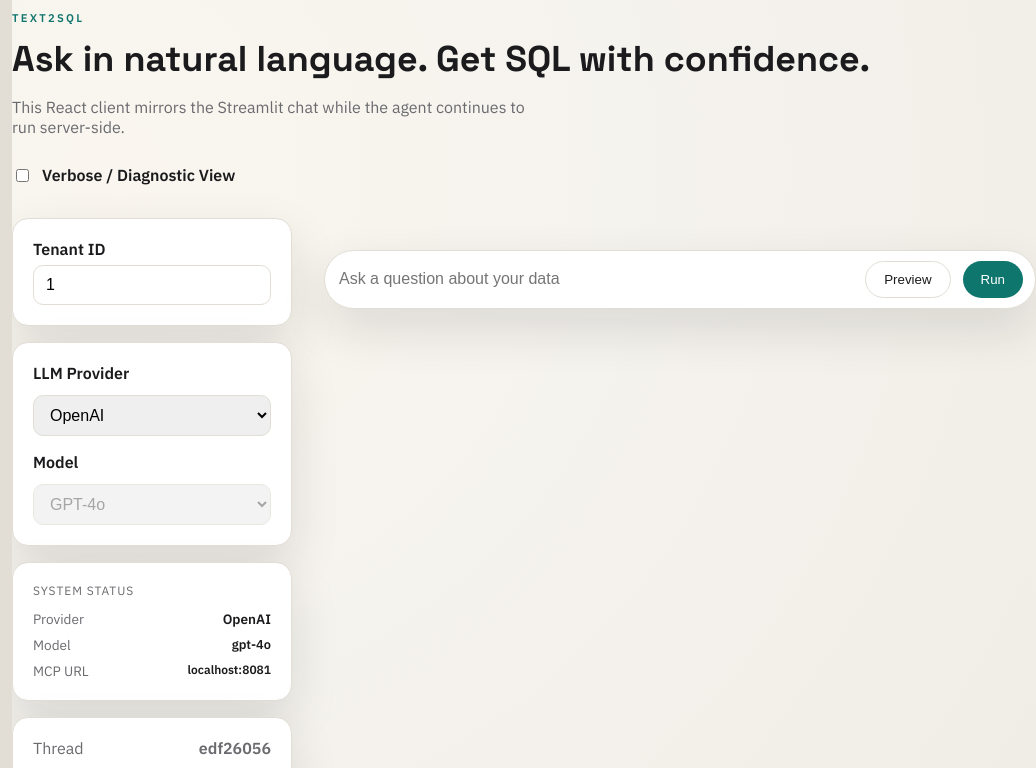
Test case: AgentChat pagination › handles expired pagination token gracefully
Type "token expiry" into the field with placeholder "Ask a question about your data".
click(595, 279); type("token expiry")  # box [337,261,853,298]
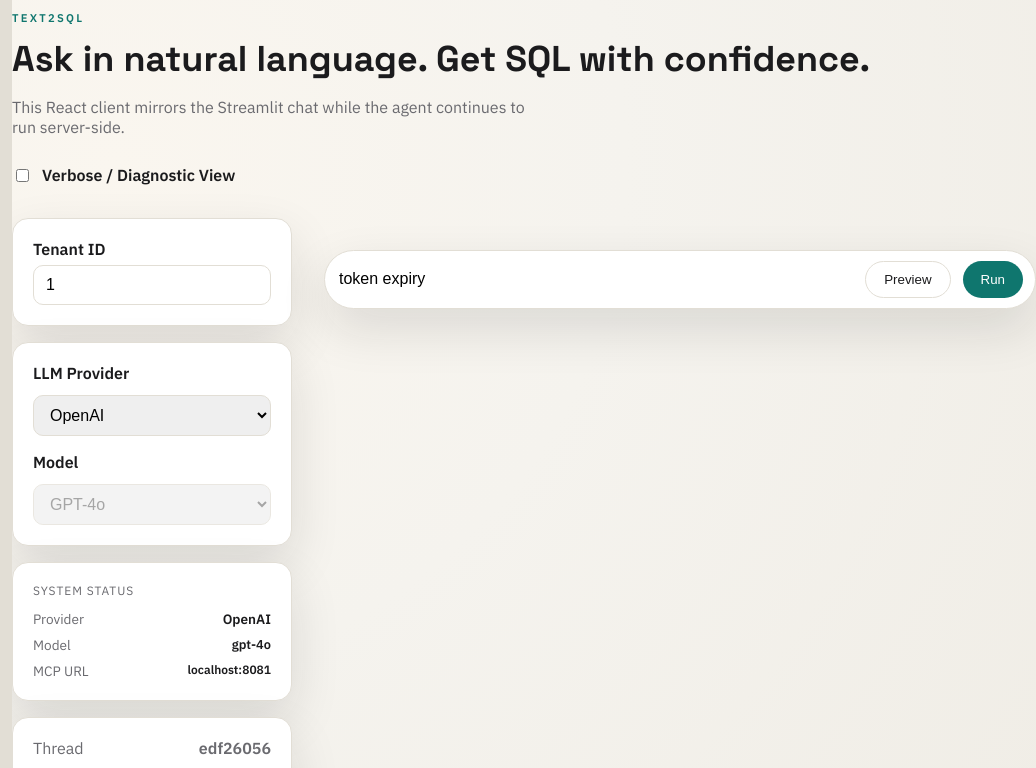
Submit the form with placeholder "ask a question", box [324,250,1035,309]
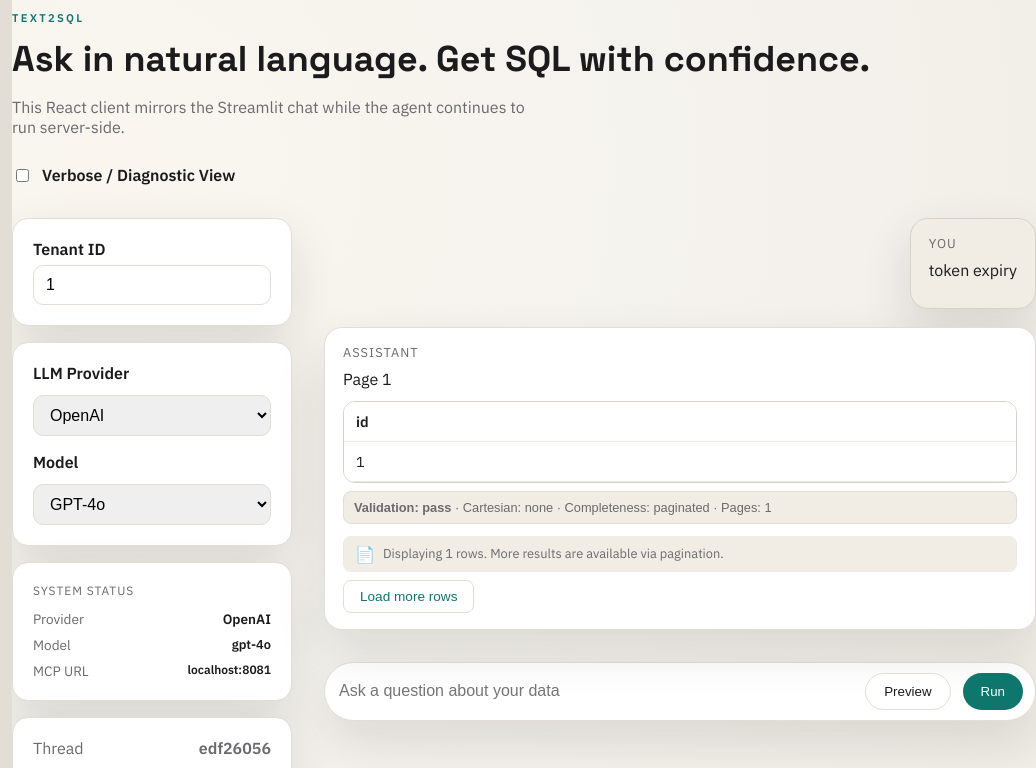
expect the button with test id "load-more-button" is shown: met
Click the button with test id "load-more-button".
click(409, 596)  # box [343,580,474,613]
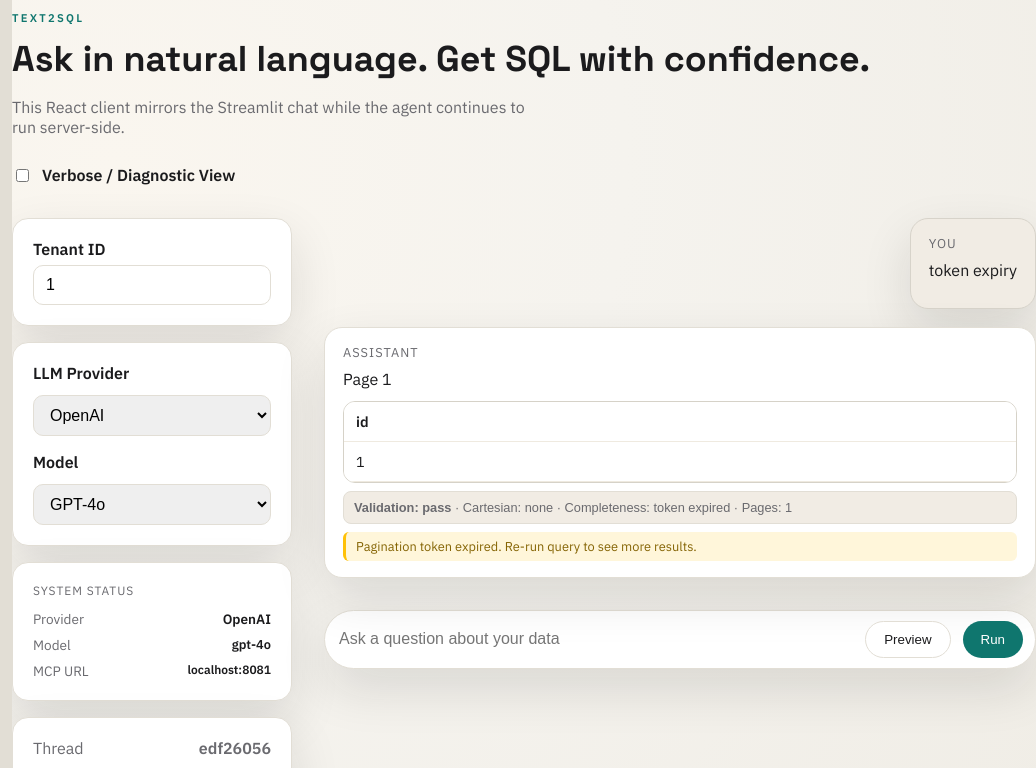
expect the text "Pagination token expired. Re-run query to see more results." is shown: met, box [343,532,1017,561]
expect the button with test id "load-more-button" is gone: met
